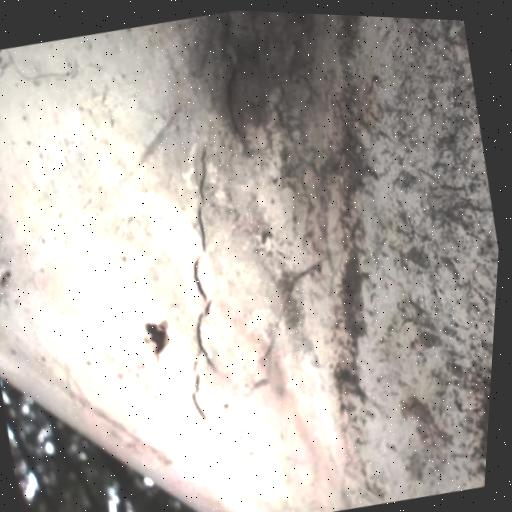crack: (136, 131, 267, 424)
